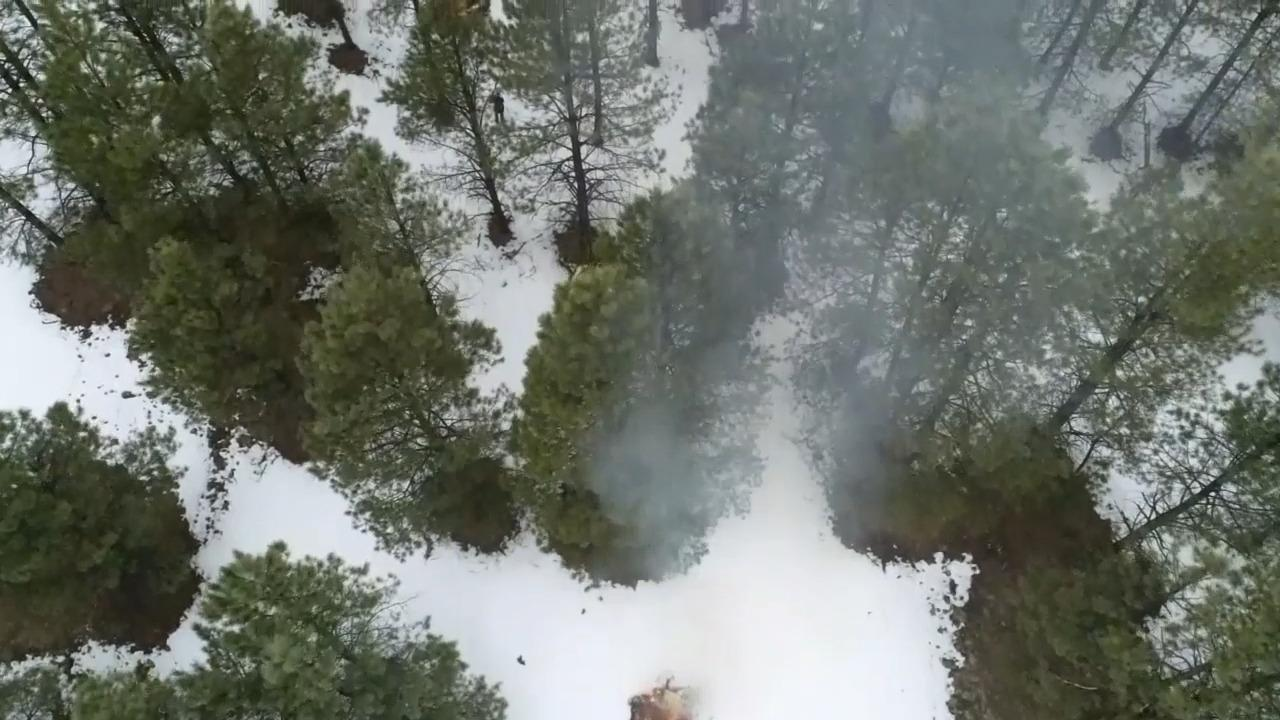fire: (629, 664, 694, 720)
smoke: (594, 381, 708, 534)
